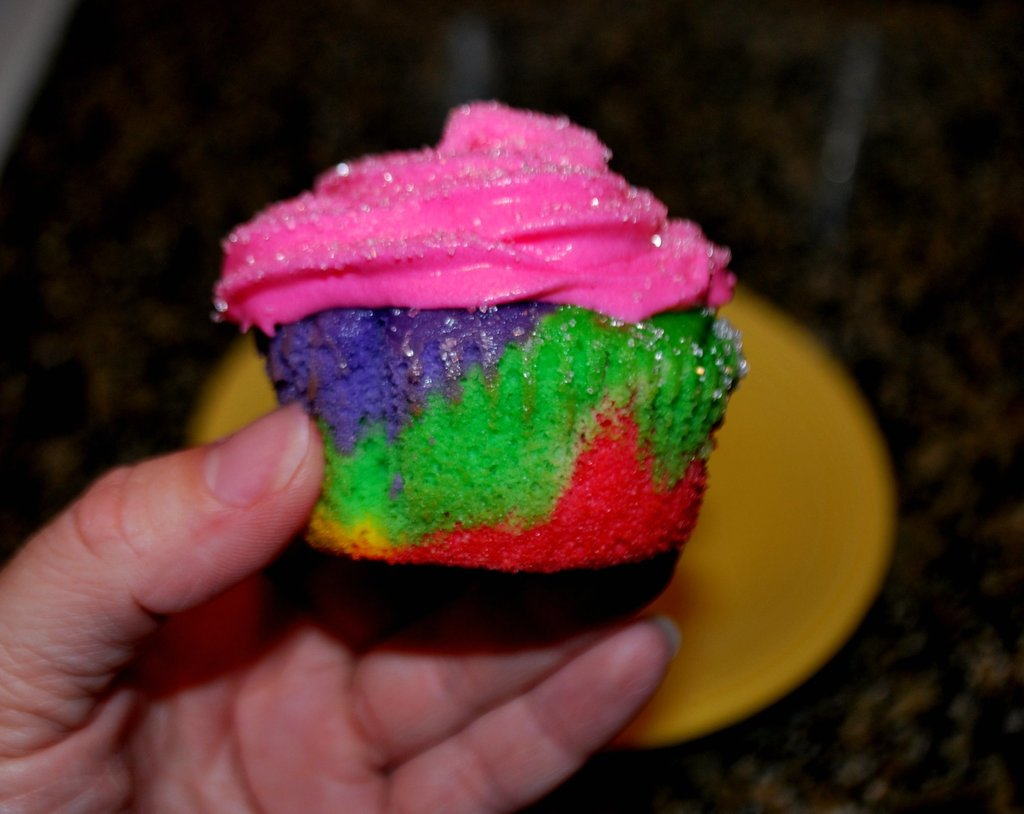cake: (208, 101, 778, 650)
